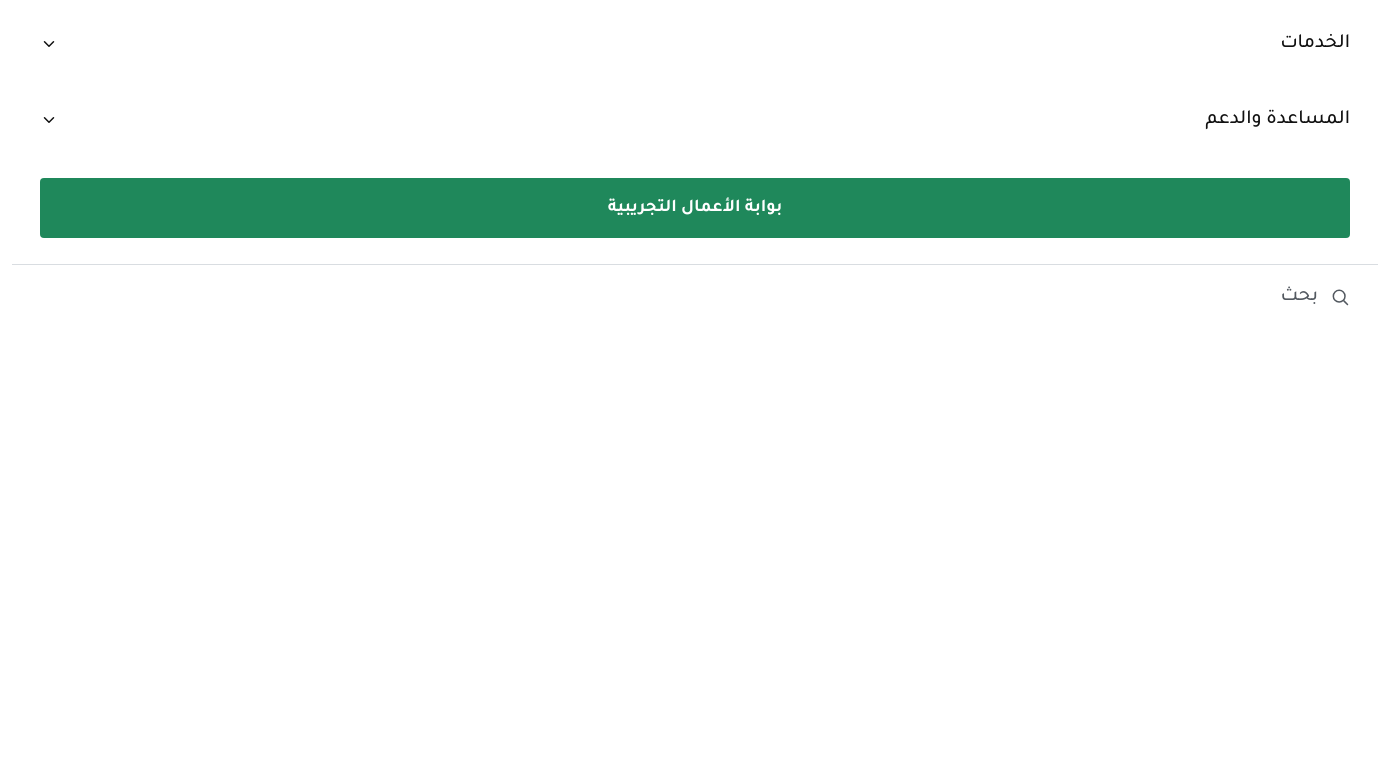
Scenario: MobileNavigation dropdown sections › only one dropdown is expanded at a time
Click the button "الخدمات" at (1315, 44), box [12,12,1378,76]
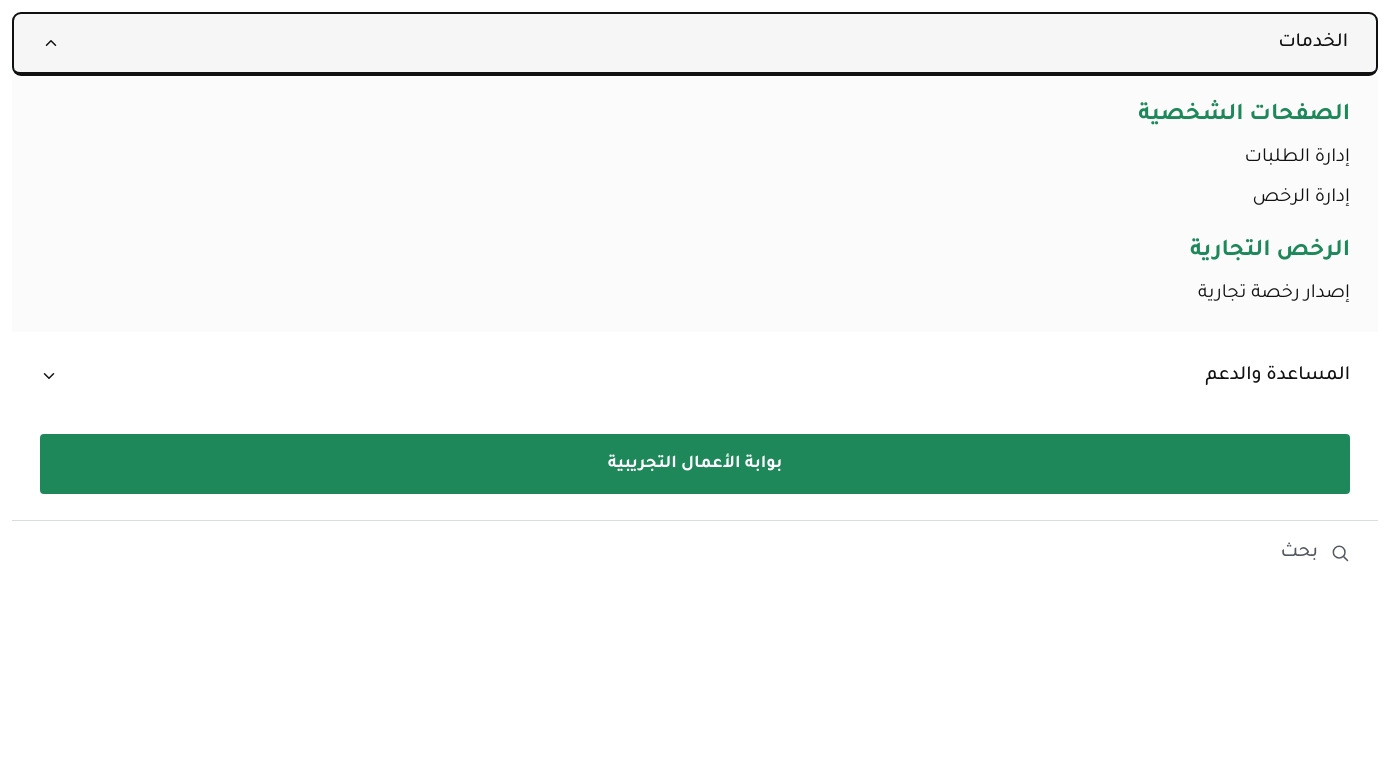
Now the heading "الصفحات الشخصية" is shown, box [1138,104,1350,128]
Click the button "المساعدة والدعم" at (1278, 376), box [12,344,1378,408]
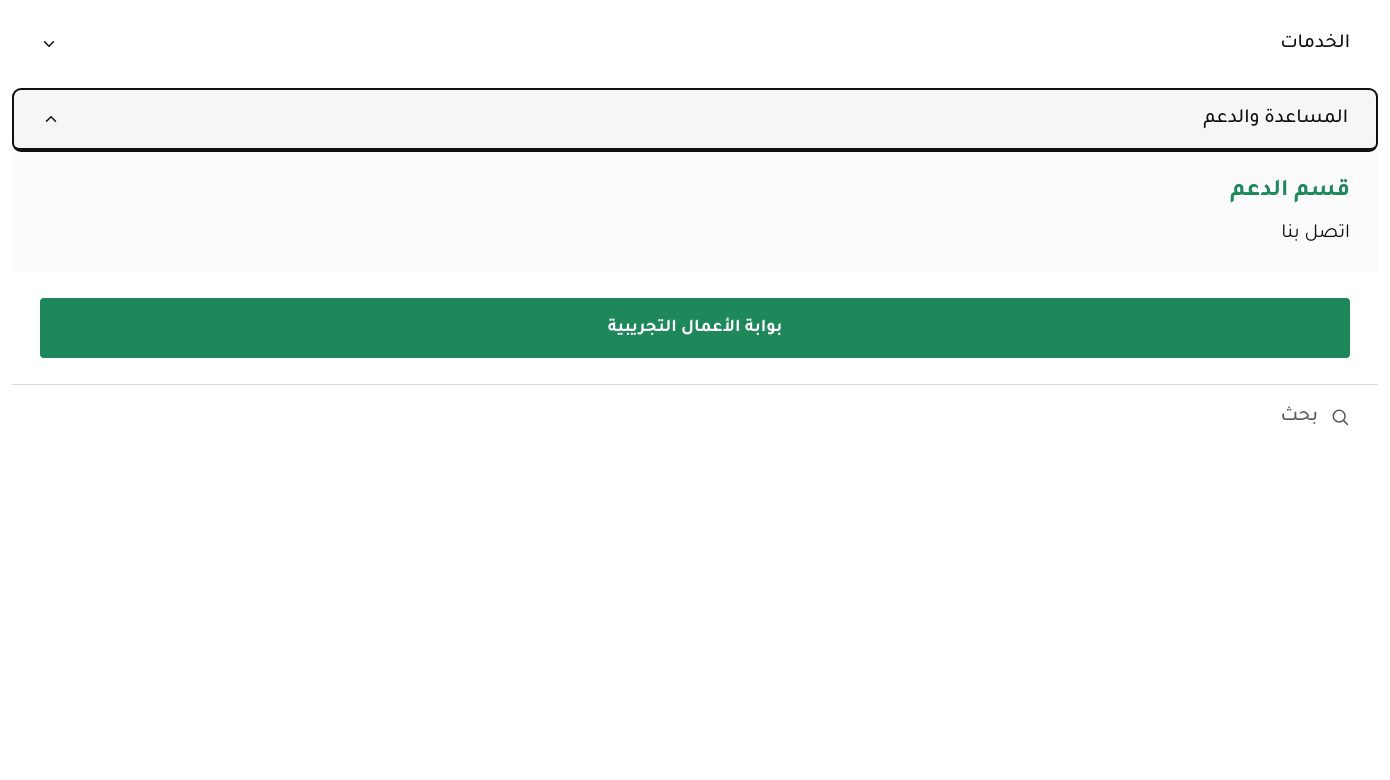
Now the heading "الصفحات الشخصية" is gone
Now the heading "قسم الدعم" is shown, box [1230,180,1350,204]
